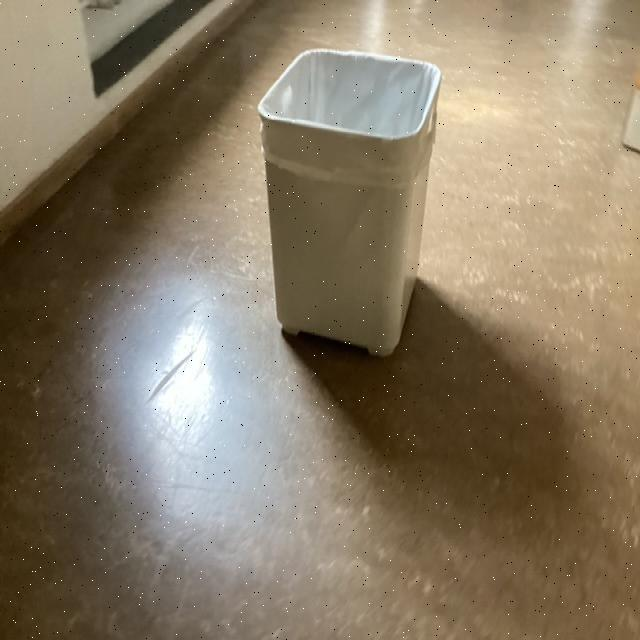garbage container: (238, 28, 455, 387)
